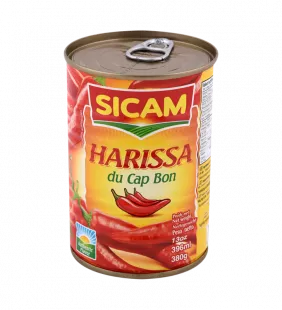Promotion: (53, 20, 228, 284)
